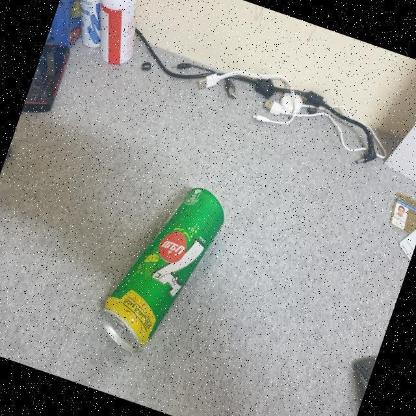Can: (86, 181, 244, 361)
